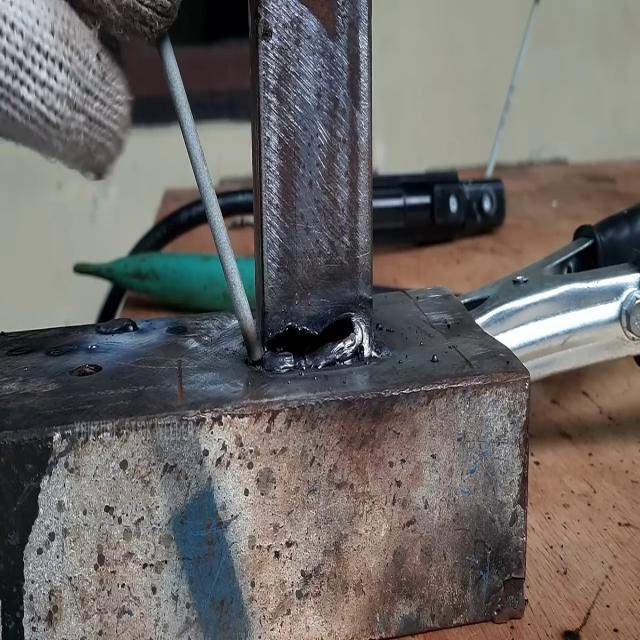Bad Welding: (267, 311, 374, 365)
Crack: (267, 312, 362, 357)
